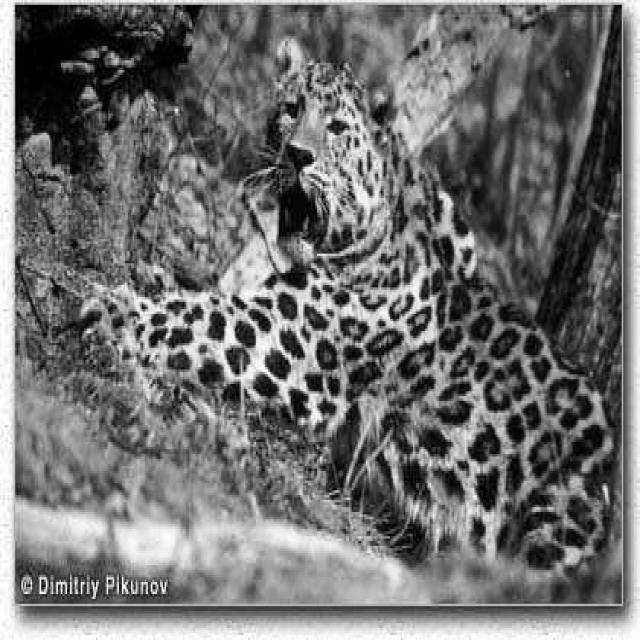Leopard: (238, 28, 442, 404)
